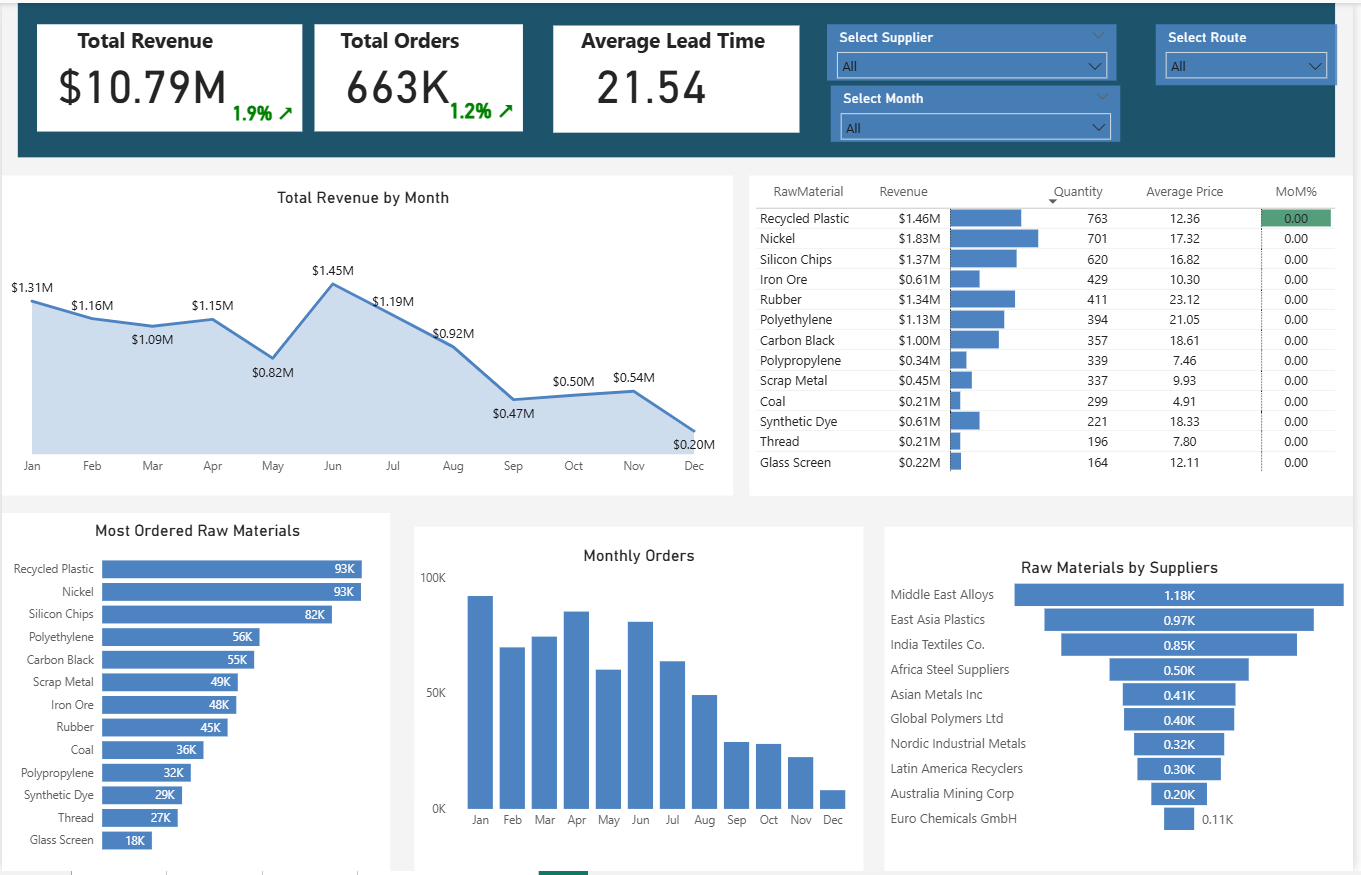

What the dashboard file says about the page in this screenshot:
{"tool":"powerbi","page":{"name":"Page 1","canvas":[1400,900],"ordinal":0},"visuals":[{"type":"card","fields":{"Values":["_Measures.Total Revenue"]},"box":[40.3,10.4,224.5,105.9],"z":0},{"type":"card","fields":{"Values":["_Measures.Total Orders"]},"box":[283.2,10.4,177.3,105.9],"z":1000},{"type":"card","fields":{"Values":["_Measures.Average Delivery"]},"box":[506.6,10.4,183.1,105.9],"z":2000},{"type":"slicer","fields":{"Values":["ps supplychain_summary.SupplierName"]},"box":[812.4,15.6,299.8,58.4],"z":3000},{"type":"slicer","fields":{"Values":["ps supplychain_summary.Route"]},"box":[1193.9,10.4,186.9,63.6],"z":4000},{"type":"tableEx","fields":{"Values":["ps supplychain_summary.RawMaterial","_Measures.Total Revenue","_Measures.Units Sold","Avg(ps supplychain_summary.UnitPrice)"]},"box":[887.7,106.4,512.6,343.9],"z":5000},{"type":"shape","box":[0,145.1,759.1,305.7],"z":6000},{"type":"lineChart","fields":{"Y":["_Measures.Total Revenue"],"Category":["ps supplychain_summary.Month"]},"box":[9.9,158.8,748.1,289.1],"z":7000},{"type":"shape","box":[0,474.1,401.6,371.8],"z":8000},{"type":"barChart","title":"Most Ordered Raw Materials","fields":{"Y":["Sum(ps supplychain_summary.StockQuantity)"],"Category":["ps supplychain_summary.RawMaterial"]},"box":[0,483.2,405.4,356.2],"z":9000},{"type":"shape","box":[421.8,476.3,465.9,369.9],"z":10000},{"type":"clusteredColumnChart","title":"Monthly Orders","fields":{"Y":["Sum(ps supplychain_summary.StockQuantity)"],"Category":["ps supplychain_summary.Month"]},"box":[432.1,503.5,455.5,302.4],"z":11000},{"type":"shape","box":[914.5,489.6,485.8,356.2],"z":12000},{"type":"funnel","title":" Raw Materials by Suppliers","fields":{"Category":["ps supplychain_summary.SupplierName"],"Y":["CountNonNull(ps supplychain_summary.RawMaterial)"]},"box":[914.9,510,485.4,290.7],"z":13000}]}

Visuals, with their boxes in screenshot pixels (x1, y1, x2, y2), scaled from the page's 1400x900 canvas onto the 1361x875 screenshot:
card - _Measures.Total Revenue: (39, 10, 257, 113)
card - _Measures.Total Orders: (275, 10, 448, 113)
card - _Measures.Average Delivery: (492, 10, 670, 113)
slicer - ps supplychain_summary.SupplierName: (790, 15, 1081, 72)
slicer - ps supplychain_summary.Route: (1161, 10, 1342, 72)
tableEx - ps supplychain_summary.RawMaterial x _Measures.Total Revenue: (863, 103, 1360, 438)
shape: (0, 141, 738, 438)
lineChart - _Measures.Total Revenue x ps supplychain_summary.Month: (10, 154, 737, 435)
shape: (0, 461, 390, 822)
"Most Ordered Raw Materials" barChart: (0, 470, 394, 816)
shape: (410, 463, 863, 823)
"Monthly Orders" clusteredColumnChart: (420, 490, 863, 784)
shape: (889, 476, 1360, 822)
" Raw Materials by Suppliers" funnel: (889, 496, 1360, 778)
